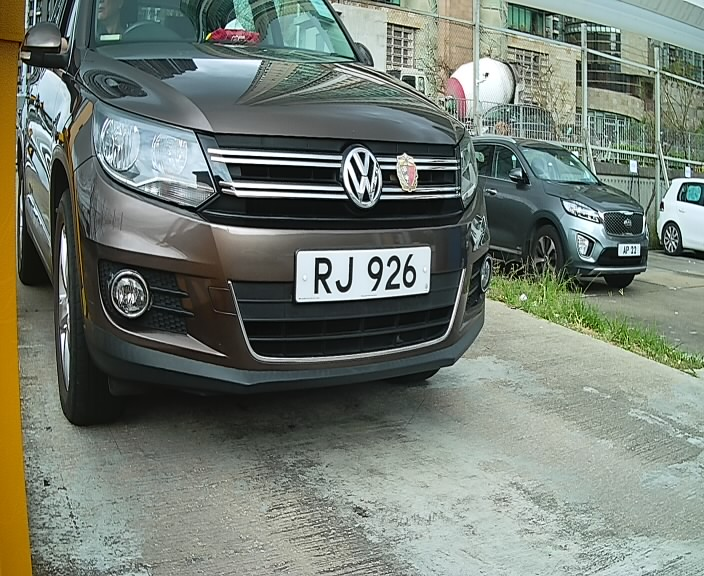Car: (11, 2, 518, 429)
License Plate: (281, 241, 437, 315)
